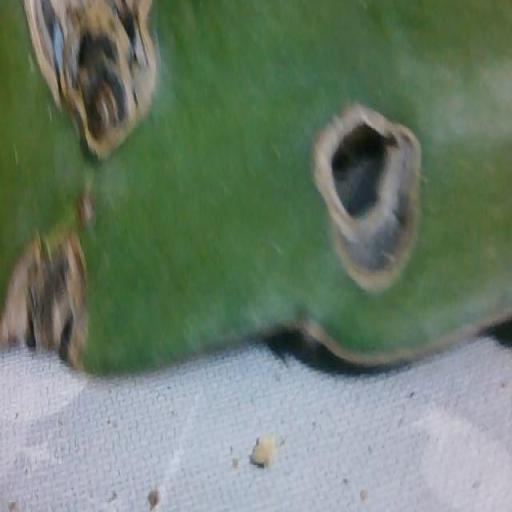stemcanker: (66, 184, 102, 235)
